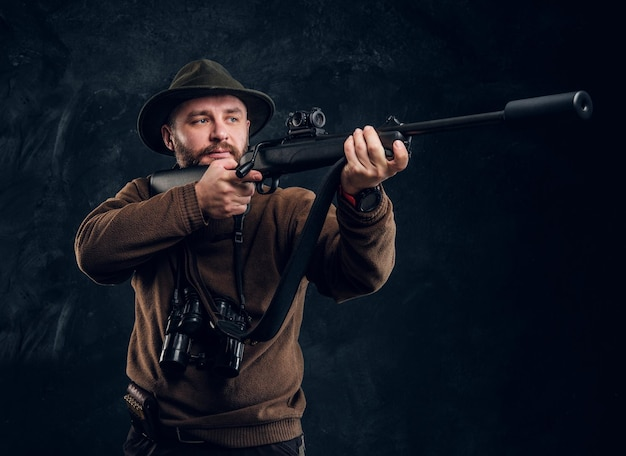gun: (144, 89, 592, 228)
